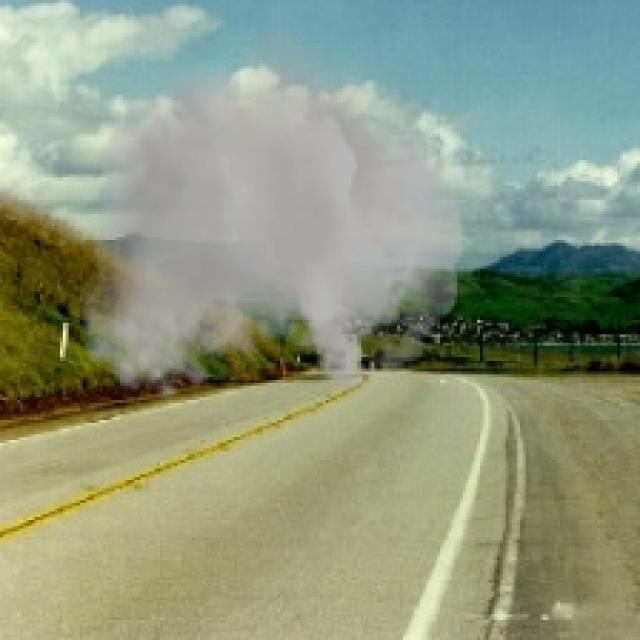smoke: (80, 14, 463, 403)
